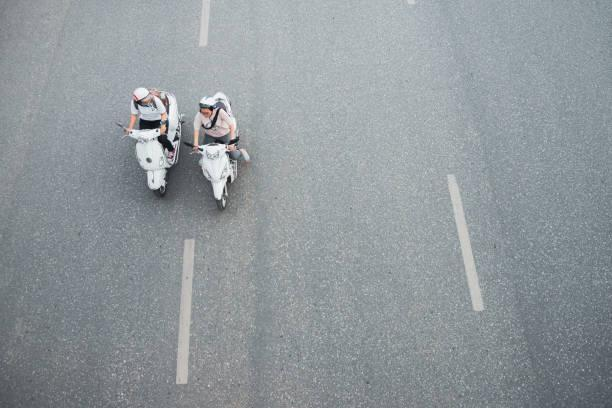Motorcycle: (110, 80, 187, 193), (192, 87, 253, 202)
